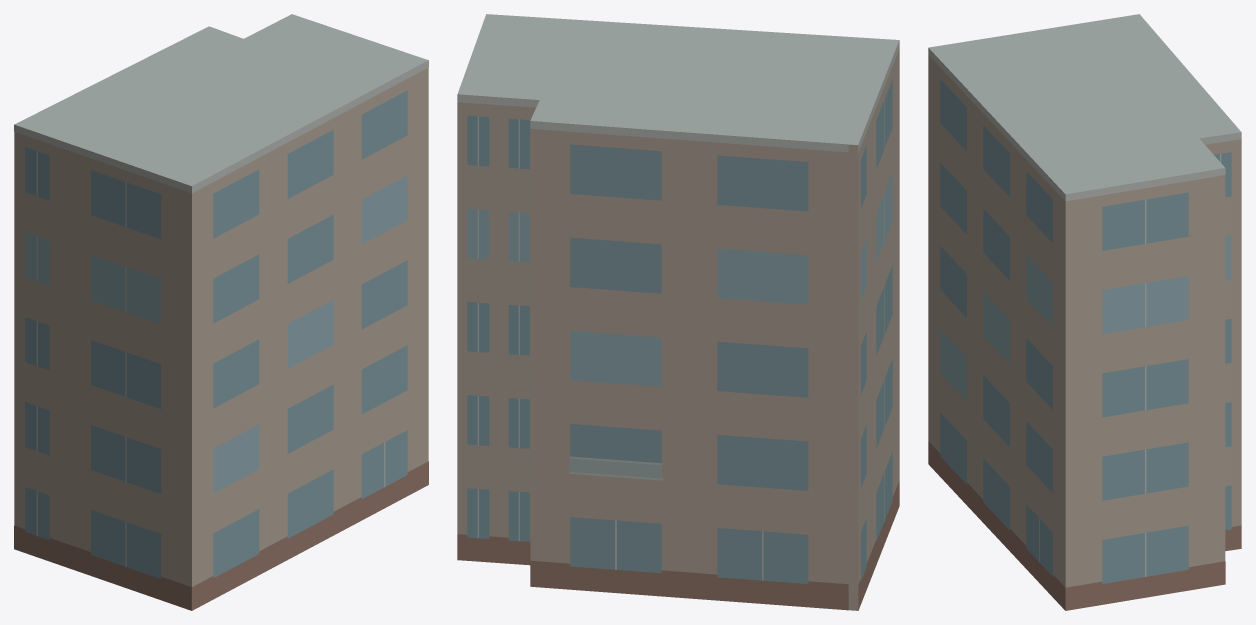
The model's file is survey-upis-32800611.glb.
3 renders of one model, left to right at view 1: azimuth 30°, elevation 25°; view 2: azimuth 150°, elevation 25°; view 3: azimuth 270°, elevation 25°, orthographic. The views are drawn at different scales.
Visible parts, largest first — view 1: survey-upis-32800611.tmp; view 2: survey-upis-32800611.tmp; view 3: survey-upis-32800611.tmp.
Boxes of the visible parts, bbox=[...] form: survey-upis-32800611.tmp: bbox=[14, 14, 428, 610]; survey-upis-32800611.tmp: bbox=[457, 14, 899, 610]; survey-upis-32800611.tmp: bbox=[928, 14, 1241, 610].
Size of the model in its own units: 13.39 by 14.4 by 9.83.
